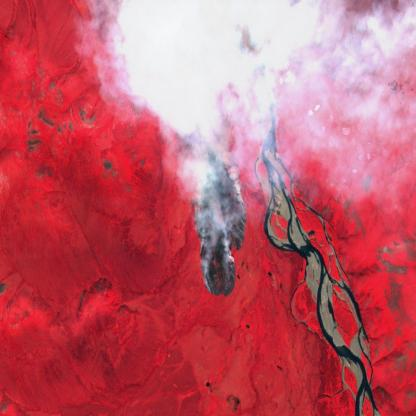fire: (188, 127, 250, 302)
